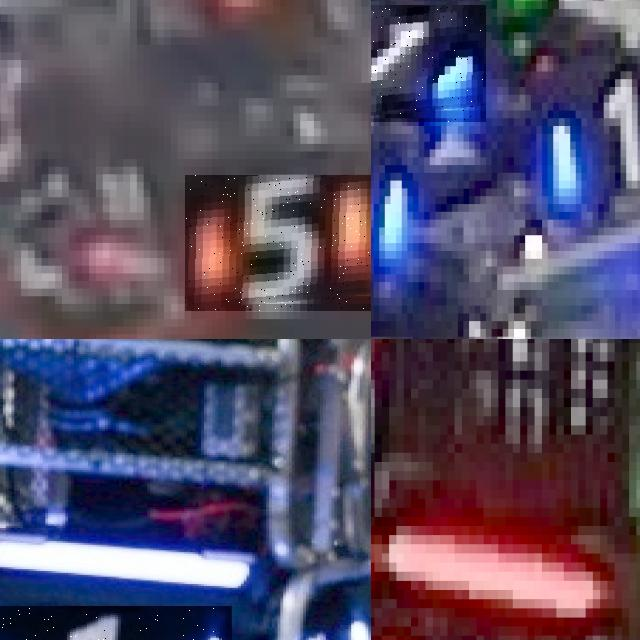B1: (533, 63, 640, 196), (371, 5, 485, 122), (0, 606, 232, 640), (371, 106, 412, 262)
R5: (184, 174, 371, 311)
